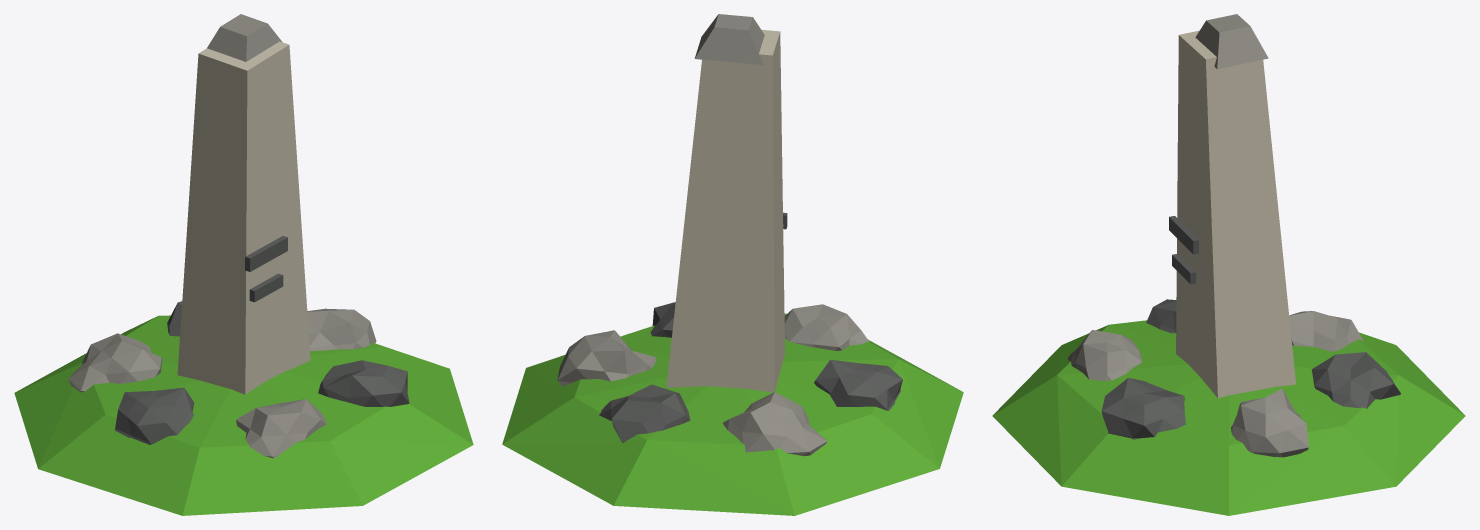
Rendered from three_farthing_stone.glb.
3 views of the same model, side by side, from view 1: azimuth 30°, elevation 25°; view 2: azimuth 150°, elevation 25°; view 3: azimuth 270°, elevation 25° (orthographic).
Parts seen in each view (by area): view 1: three_farthing_stone; view 2: three_farthing_stone; view 3: three_farthing_stone.
Part boxes in pixels (bbox=[...]): three_farthing_stone: bbox=[14, 14, 473, 515]; three_farthing_stone: bbox=[502, 14, 963, 515]; three_farthing_stone: bbox=[992, 14, 1465, 515].
Size of what is drawn, in the model's own units: 3.8 by 3.52 by 3.8.
